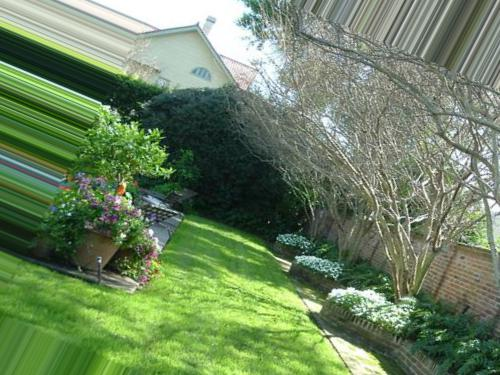patch: (329, 335, 373, 372), (305, 288, 324, 319)
